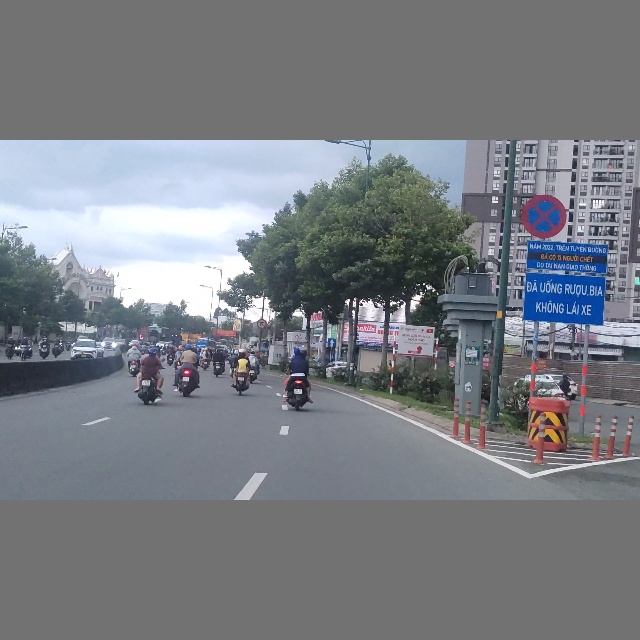I.407a: (328, 338, 336, 347)
P.123b: (256, 319, 267, 329)
P.130: (521, 194, 567, 239)
